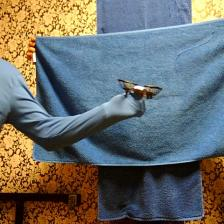drone: (118, 78, 163, 102)
